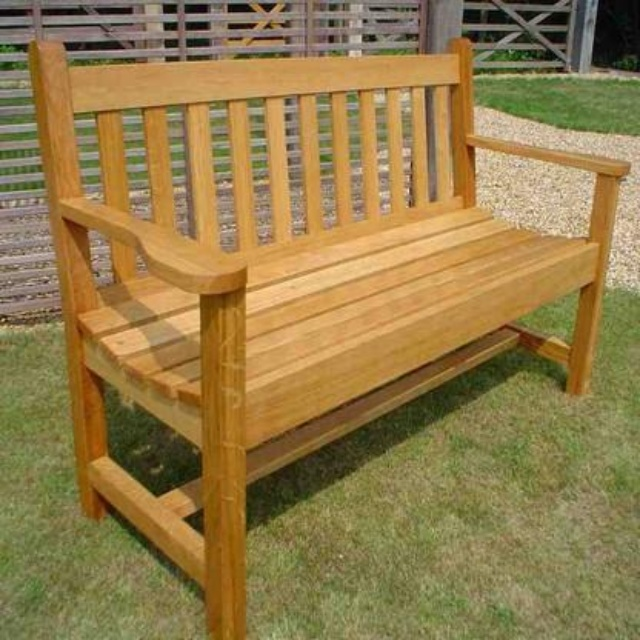obstacle: (29, 23, 625, 628)
